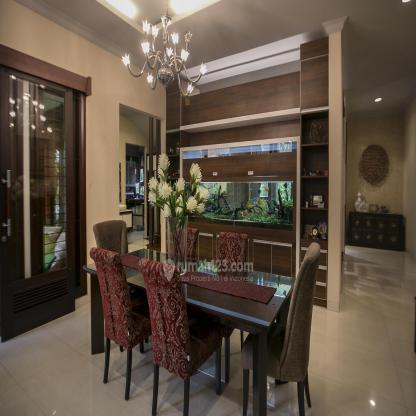kursi: (271, 237, 322, 414), (91, 248, 142, 399), (146, 160, 207, 270)
lampu: (140, 259, 219, 414)
